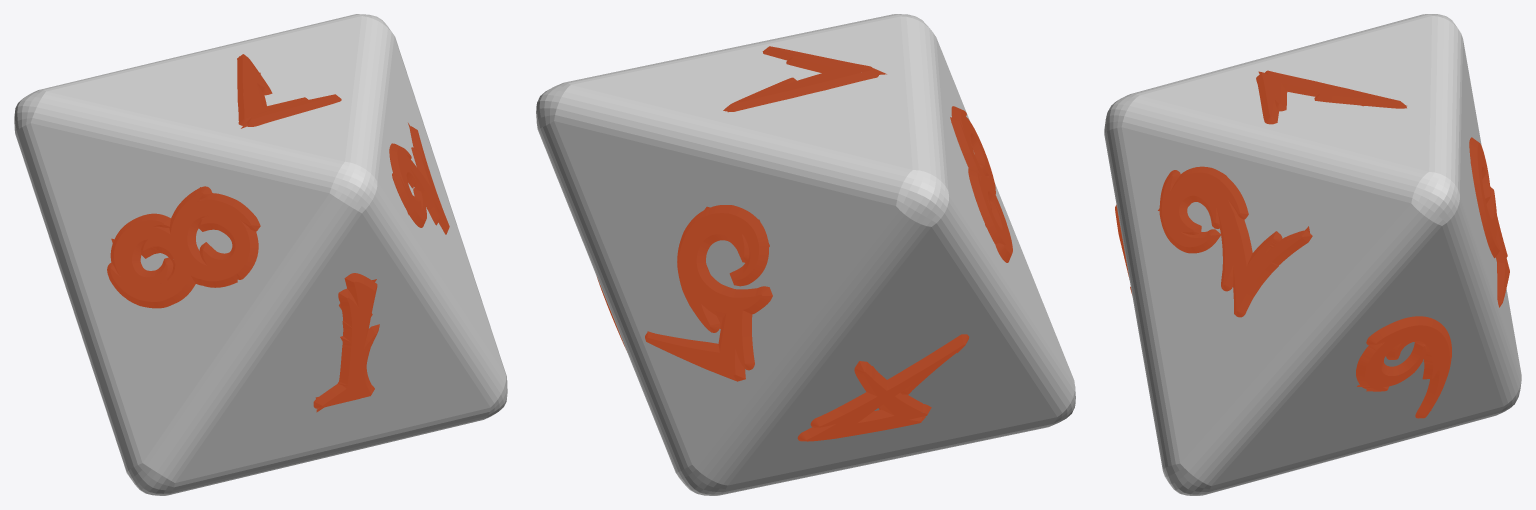
3 renders of one model, left to right at view 1: azimuth 30°, elevation 25°; view 2: azimuth 150°, elevation 25°; view 3: azimuth 270°, elevation 25°, orthographic. The views are drawn at different scales.
Parts seen in each view (by area): view 1: d8; view 2: d8; view 3: d8.
Boxes of the visible parts, left/top/right/bottom form: d8: left=14, top=14, right=507, bottom=495; d8: left=536, top=14, right=1075, bottom=495; d8: left=1104, top=14, right=1521, bottom=495.
Bounding box in the file's own units: 1.64 × 1.37 × 1.56.
